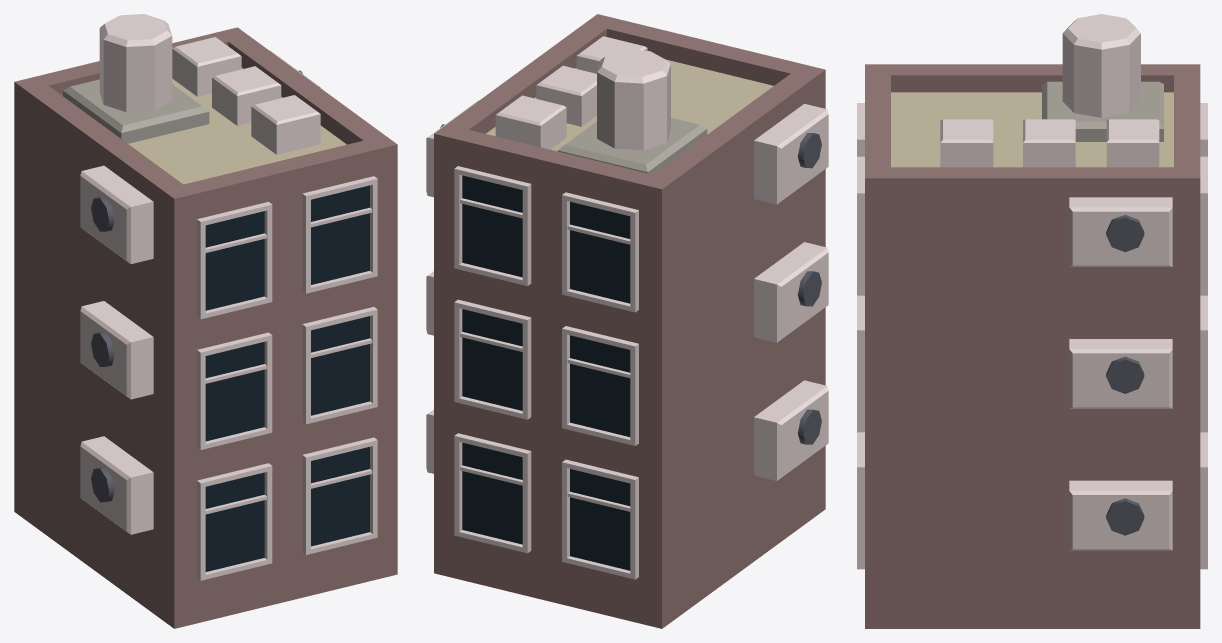
Rendered from building03.fbx.
3 renders of one model, left to right at view 1: azimuth 30°, elevation 25°; view 2: azimuth 150°, elevation 25°; view 3: azimuth 270°, elevation 25°, orthographic. The views are drawn at different scales.
Parts seen in each view (by area): view 1: building03; view 2: building03; view 3: building03.
Boxes of the visible parts, x1=… form: building03: x1=14, y1=14, x2=397, y2=628; building03: x1=426, y1=14, x2=828, y2=628; building03: x1=857, y1=14, x2=1207, y2=628.
Bounding box in the file's own units: 57.39 × 59.11 × 97.55.
